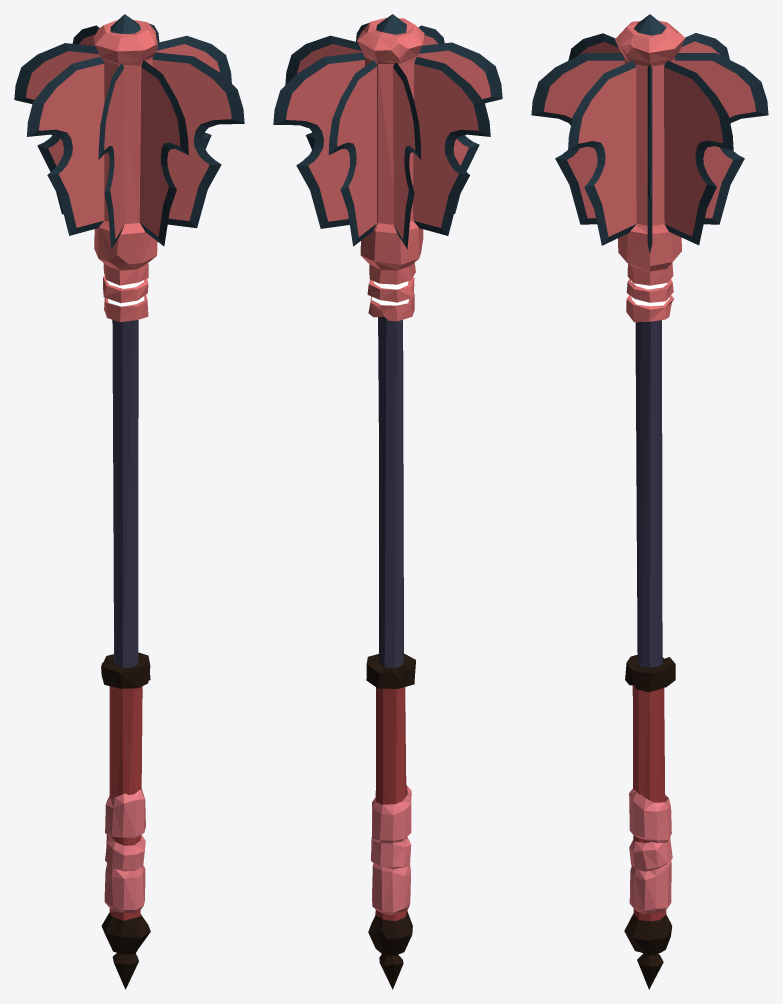
Rendered from SFFA_Weapon_Mace_Gold_003.fbx.
3 views of the same model, side by side, from view 1: azimuth 30°, elevation 25°; view 2: azimuth 150°, elevation 25°; view 3: azimuth 270°, elevation 25° (orthographic).
Visible parts, largest first — view 1: SFFA_Weapon_Mace_Gold_003; view 2: SFFA_Weapon_Mace_Gold_003; view 3: SFFA_Weapon_Mace_Gold_003.
Boxes of the visible parts, bbox=[...] form: SFFA_Weapon_Mace_Gold_003: bbox=[14, 14, 244, 989]; SFFA_Weapon_Mace_Gold_003: bbox=[273, 14, 502, 989]; SFFA_Weapon_Mace_Gold_003: bbox=[531, 14, 768, 989].
Bounding box in the file's own units: 19.44 × 88.24 × 19.44.
